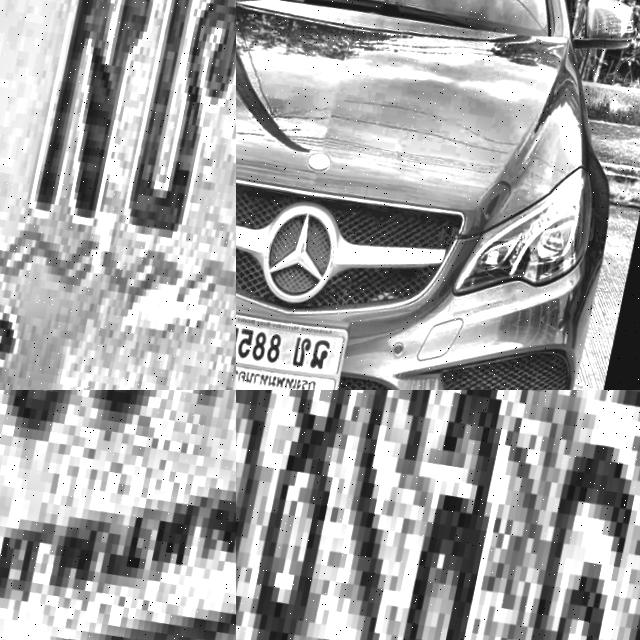license-plate: (236, 390, 640, 640), (0, 0, 236, 390), (0, 390, 236, 640), (236, 307, 351, 390)
